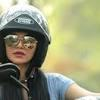helmet: (0, 5, 70, 72)
